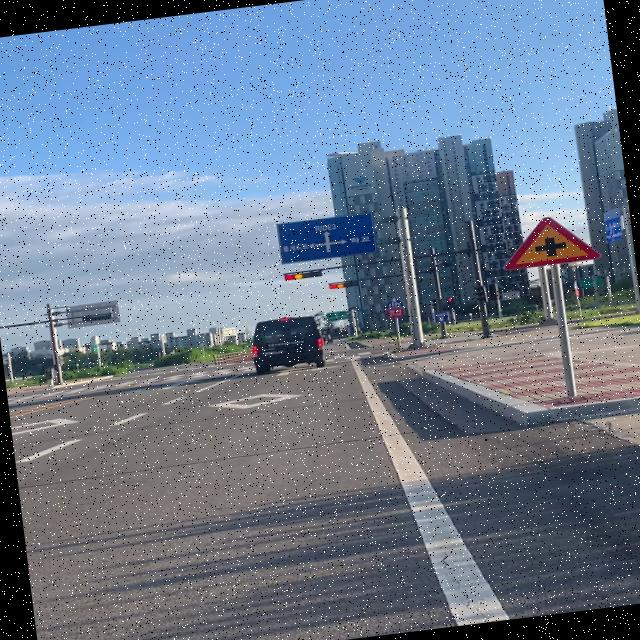yellow_light: (284, 270, 322, 280), (328, 281, 358, 289)
